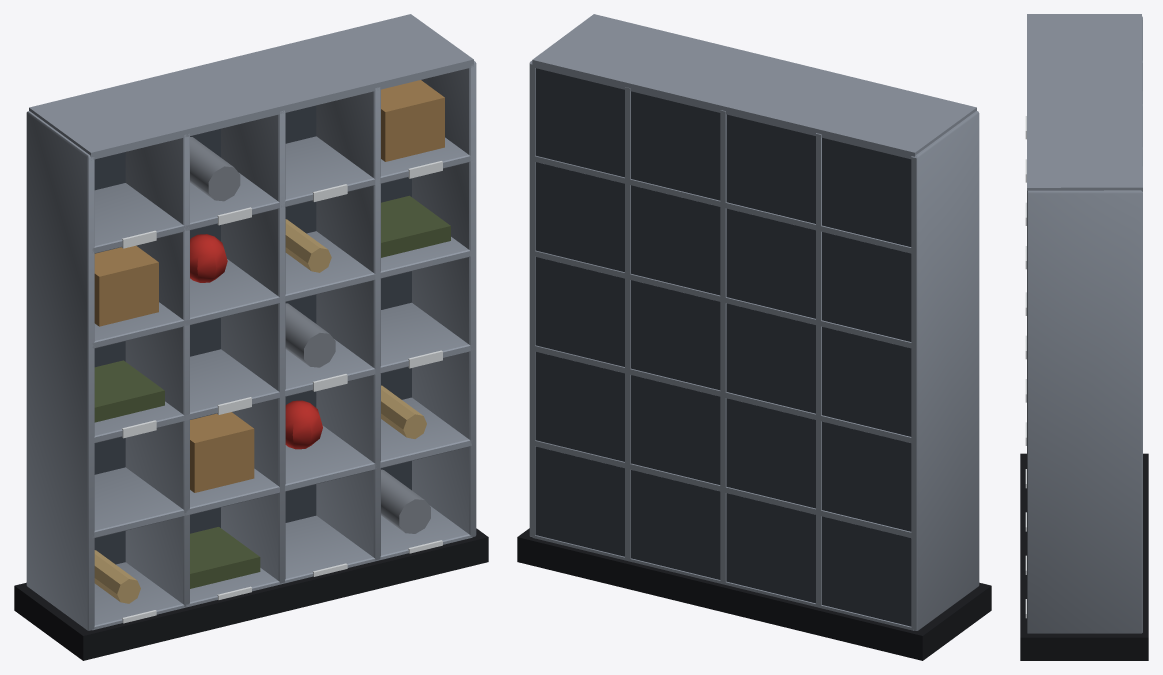
The model's file is shelving_pigeonhole.glb.
The picture shows the model from 3 angles, left to right: view 1: azimuth 30°, elevation 25°; view 2: azimuth 150°, elevation 25°; view 3: azimuth 270°, elevation 25°; orthographic projection. The views are drawn at different scales.
Visible parts, largest first — view 1: shelving_pigeonhole; view 2: shelving_pigeonhole; view 3: shelving_pigeonhole.
Part boxes in pixels (<box>): shelving_pigeonhole: <box>14,14,488,660</box>; shelving_pigeonhole: <box>517,14,991,660</box>; shelving_pigeonhole: <box>1020,14,1148,660</box>.
Size of the model in its own units: 1.7 by 2.02 by 0.5.
